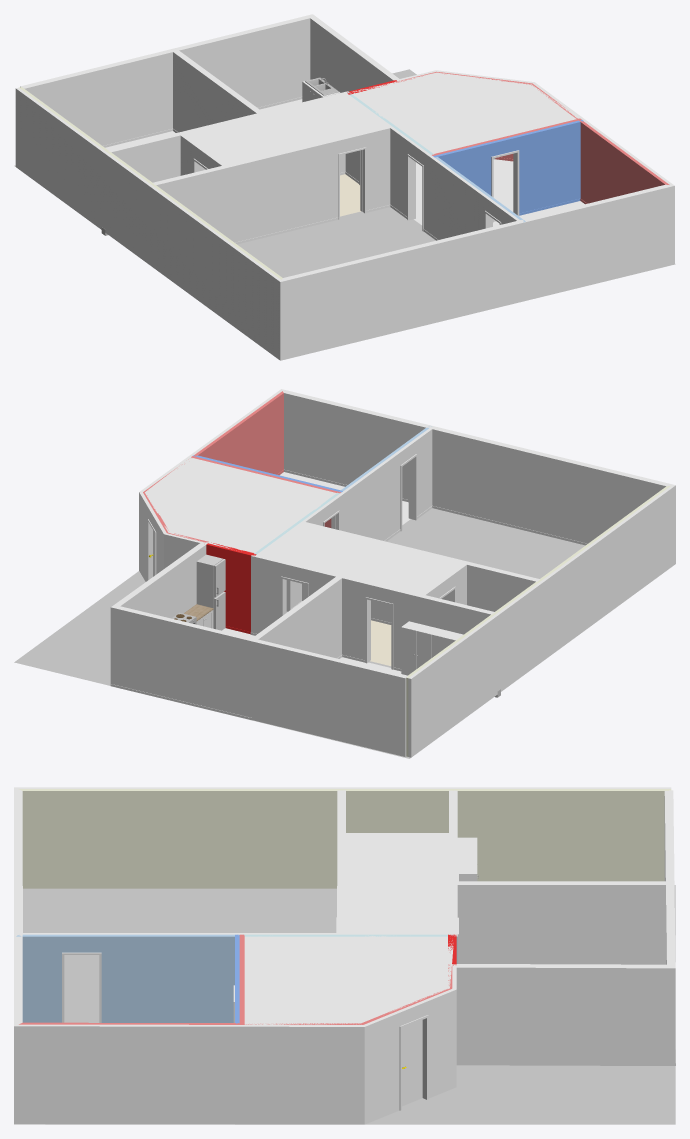
Rendered from Rorstrandsgatan12.dae.
The picture shows the model from 3 angles, top to bottom: view 1: azimuth 30°, elevation 25°; view 2: azimuth 150°, elevation 25°; view 3: azimuth 270°, elevation 25°; orthographic projection. The views are drawn at different scales.
Parts seen in each view (by area): view 1: wall_1_5_001, wall_9_65_001, wall_10_72_001, room_27_173_001, wall_19_141_001, wall_22_164_001, ground_1_001, wall_21_157_001, room_25_171_001, wall_5_35_001, wall_7_50_001, wall_13_94_001 (+15 smaller); view 2: wall_1_5_001, wall_9_64_001, ground_1_001, wall_22_165_001, wall_21_158_001, room_27_173_001, wall_10_71_001, room_25_171_001, wall_15_110_001, wall_7_50_001, wall_13_94_001, wall_4_27_001 (+17 smaller); view 3: wall_1_4_001, ground_1_001, wall_13_95_001, wall_3_19_001, room_27_173_001, wall_4_26_001, wall_7_49_001, wall_14_102_001, room_25_171_001, wall_6_42_001, Porte_243_001, wall_1_7_001 (+13 smaller).
Part boxes in pixels (<box>): wall_1_5_001: <box>15,88,280,360</box>; wall_9_65_001: <box>280,223,523,360</box>; wall_10_72_001: <box>523,186,674,301</box>; room_27_173_001: <box>352,72,579,153</box>; wall_19_141_001: <box>228,128,390,242</box>; wall_22_164_001: <box>24,52,172,145</box>; ground_1_001: <box>14,69,675,277</box>; wall_21_157_001: <box>179,18,310,107</box>; room_25_171_001: <box>184,94,388,165</box>; wall_5_35_001: <box>438,122,580,213</box>; wall_7_50_001: <box>428,156,516,239</box>; wall_13_94_001: <box>580,122,664,203</box>; wall_1_5_001: <box>408,485,675,757</box>; wall_9_64_001: <box>432,429,665,543</box>; ground_1_001: <box>14,508,585,758</box>; wall_22_165_001: <box>251,641,406,756</box>; wall_21_158_001: <box>110,607,251,717</box>; room_27_173_001: <box>145,457,336,553</box>; wall_10_71_001: <box>284,393,425,499</box>; room_25_171_001: <box>258,524,465,593</box>; wall_15_110_001: <box>251,556,418,668</box>; wall_7_50_001: <box>343,429,432,540</box>; wall_13_94_001: <box>198,393,283,474</box>; wall_4_27_001: <box>258,578,341,658</box>; wall_1_4_001: <box>22,791,664,888</box>; ground_1_001: <box>14,885,675,1124</box>; wall_13_95_001: <box>14,1026,239,1124</box>; wall_3_19_001: <box>456,967,675,1065</box>; room_27_173_001: <box>244,935,453,1024</box>; wall_4_26_001: <box>457,885,665,964</box>; wall_7_49_001: <box>22,936,234,1022</box>; wall_14_102_001: <box>239,1026,364,1124</box>; room_25_171_001: <box>344,834,451,933</box>; wall_6_42_001: <box>364,989,456,1124</box>; Porte_243_001: <box>402,1020,422,1106</box>; wall_1_7_001: <box>15,787,671,788</box>.
Size of the model in its own units: 132 by 153 by 26.
24 materials, 1 textured.
